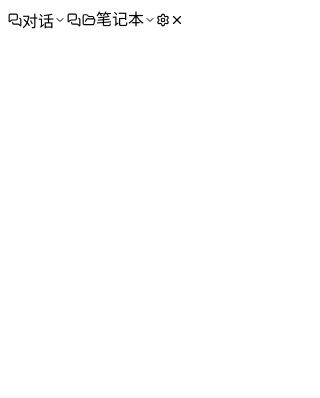
Test: floating bar account › shows free users' available credits and welfare expiry without exposing balance
This screenshot has width=320, height=398.
Click the button named "打开设置": (163, 20) [156,13,170,27]
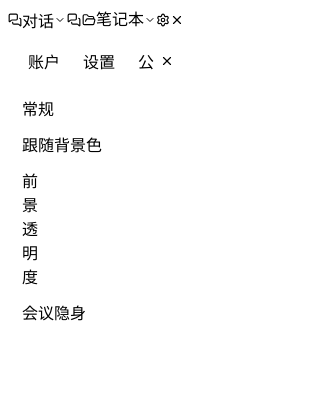
Click the tab "账户": (44, 61) [18,48,70,74]
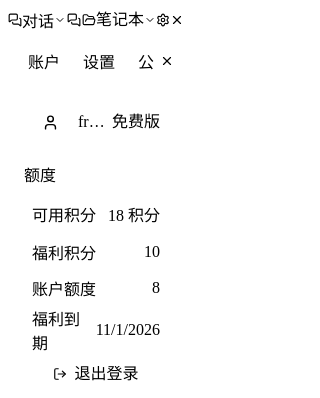
Check: the text "免费版" is shown, box [112,114,160,130]
Check: the text "18 积分" is shown, box [108,202,160,226]
Check: the text "福利积分" is shown, box [32,240,96,264]
